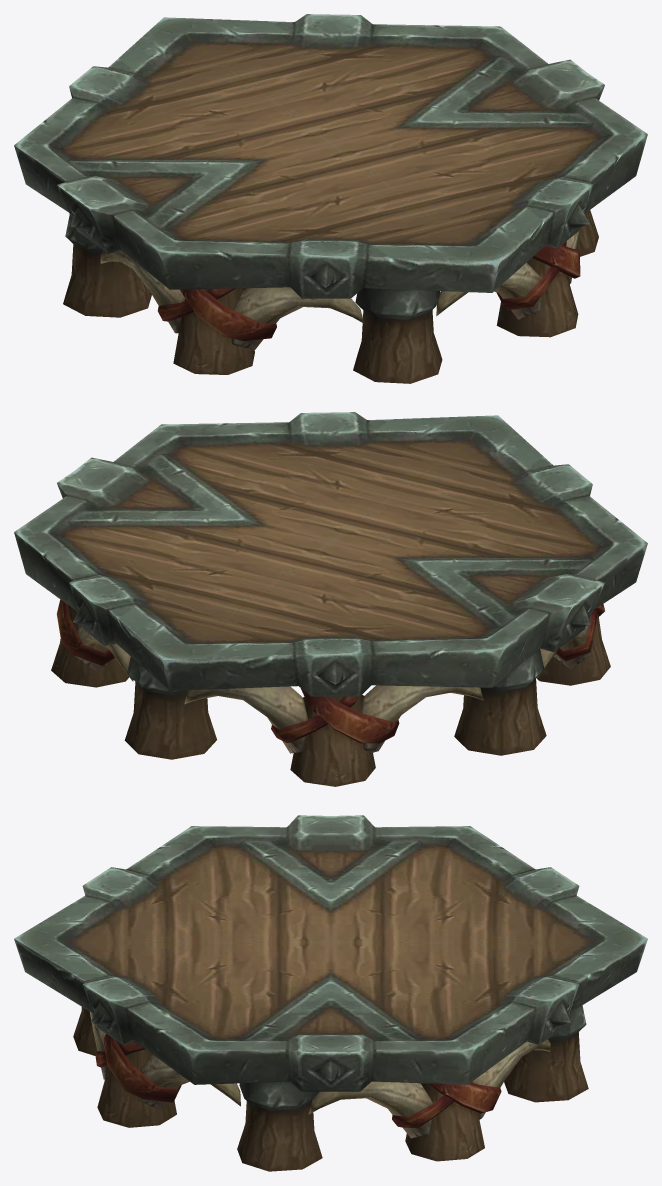
3 views of the same model, one above another, from view 1: azimuth 30°, elevation 25°; view 2: azimuth 150°, elevation 25°; view 3: azimuth 270°, elevation 25° (orthographic). The views are drawn at different scales.
Bounding box in the file's own units: 3.15 × 0.7826 × 3.5.
Materials: 1 (1 with a texture image).
